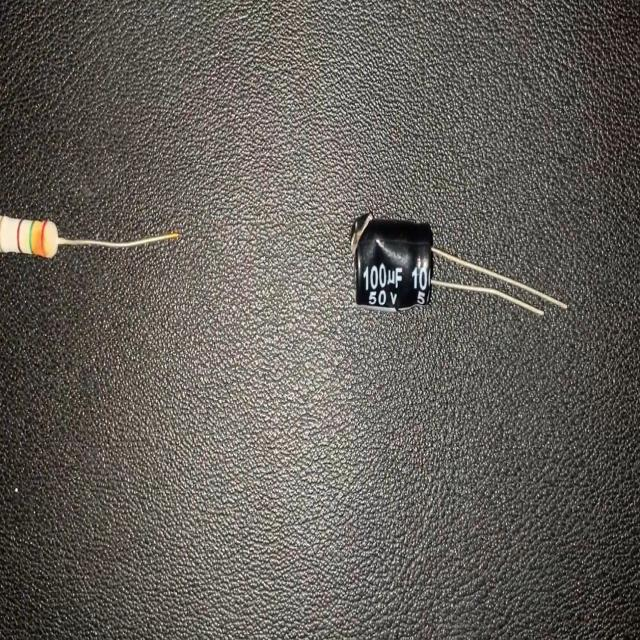burnt: (28, 215, 50, 254)
capacitor: (350, 212, 570, 324)
cracked: (373, 234, 412, 284), (351, 216, 372, 253)
resistor: (0, 207, 179, 260)
rust: (164, 229, 178, 244)
